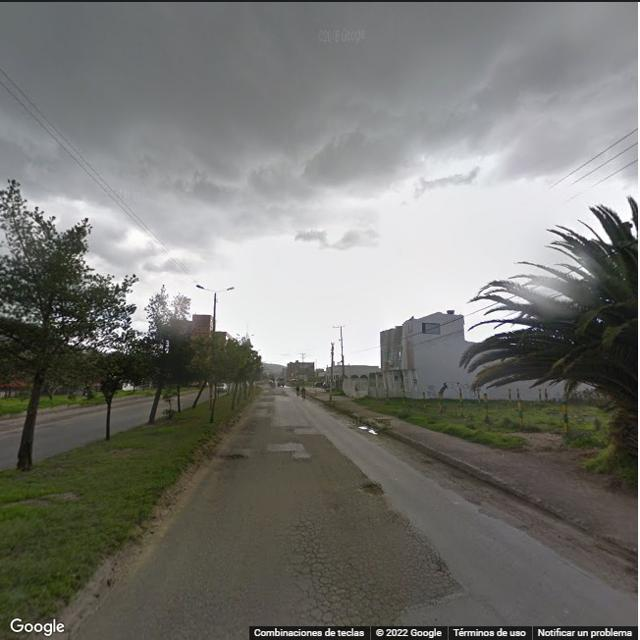D20: (289, 512, 468, 625)
D40: (352, 476, 390, 498)
